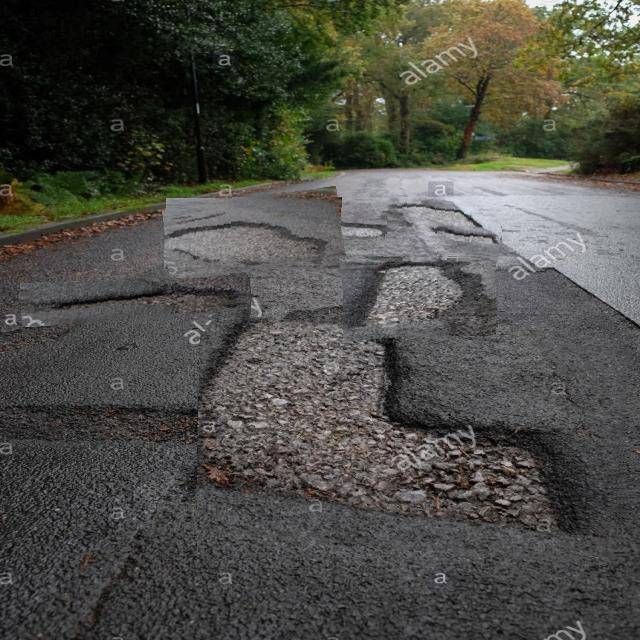Pothole: (197, 322, 626, 557), (164, 192, 344, 276), (343, 258, 497, 338), (19, 278, 251, 323), (385, 197, 502, 259)
